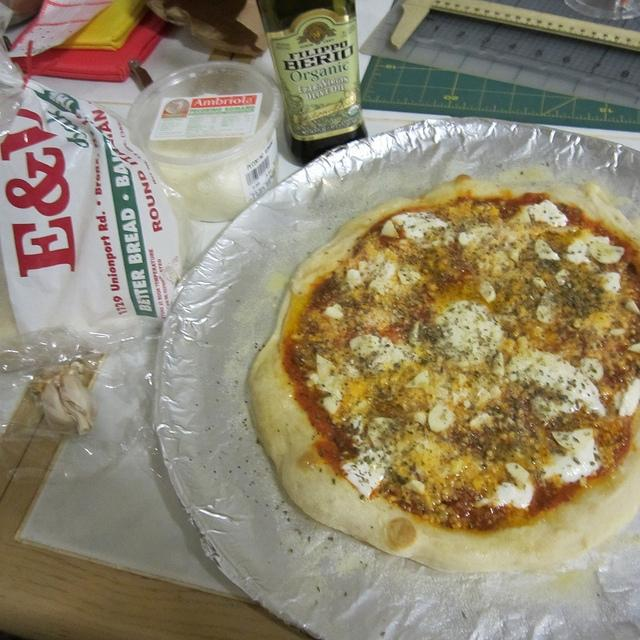garlic: (30, 360, 98, 436), (589, 236, 624, 264), (428, 402, 457, 433), (316, 354, 339, 386), (505, 462, 530, 484), (381, 220, 398, 238), (624, 300, 640, 316)
